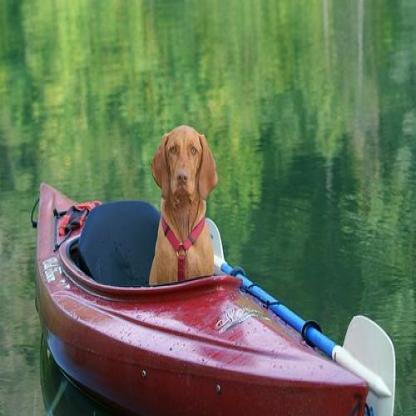vizsla: (148, 122, 215, 284)
